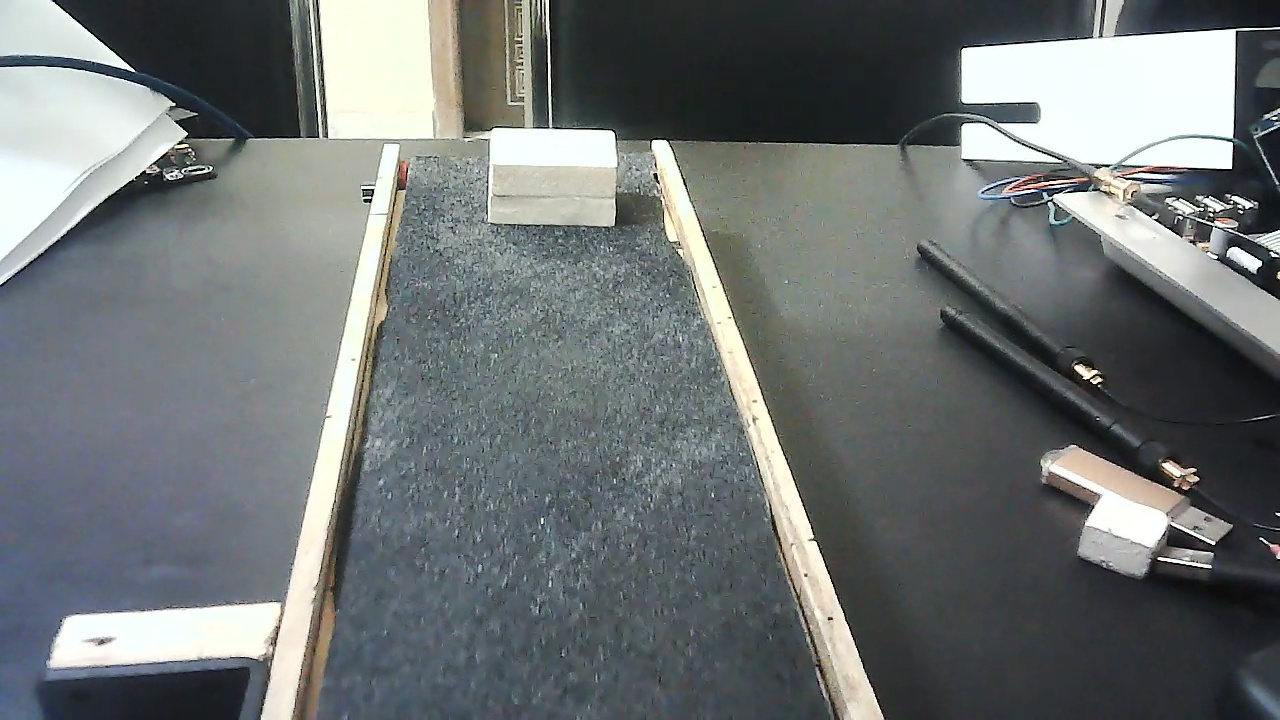BIG: (489, 112, 617, 240)
